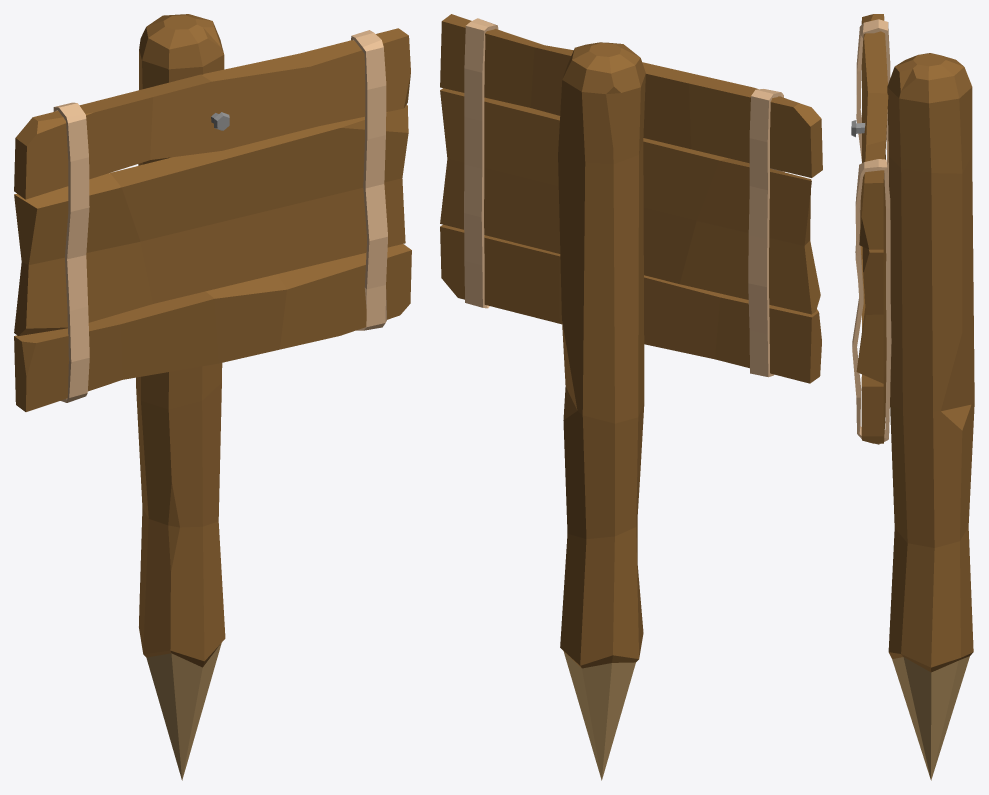
The model's file is Wooden Sign.glb.
3 views of the same model, side by side, from view 1: azimuth 30°, elevation 25°; view 2: azimuth 150°, elevation 25°; view 3: azimuth 270°, elevation 25° (orthographic). The views are drawn at different scales.
Visible parts, largest first — view 1: WoodenSign; view 2: WoodenSign; view 3: WoodenSign.
Boxes of the visible parts, <box> form: WoodenSign: <box>14,14,411,780</box>; WoodenSign: <box>440,14,822,780</box>; WoodenSign: <box>851,14,974,780</box>.
Bounding box in the file's own units: 0.836 × 1.57 × 0.2441.
